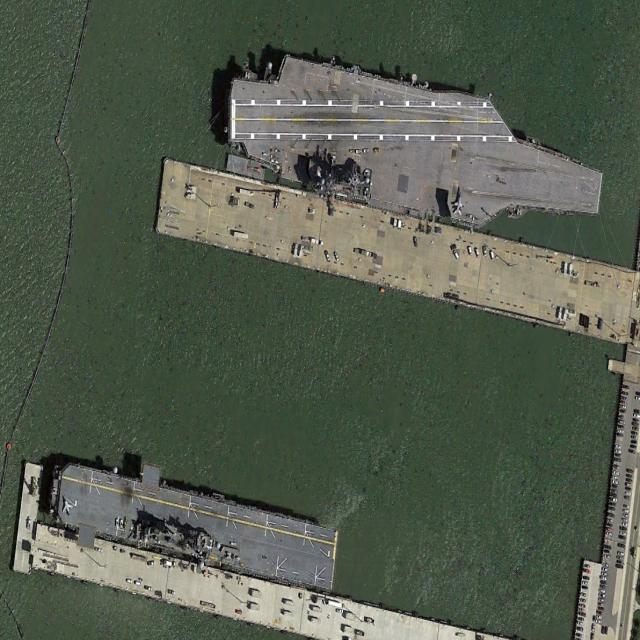Aircraft Carrier: (216, 43, 608, 262)
Landing: (45, 441, 342, 608)
